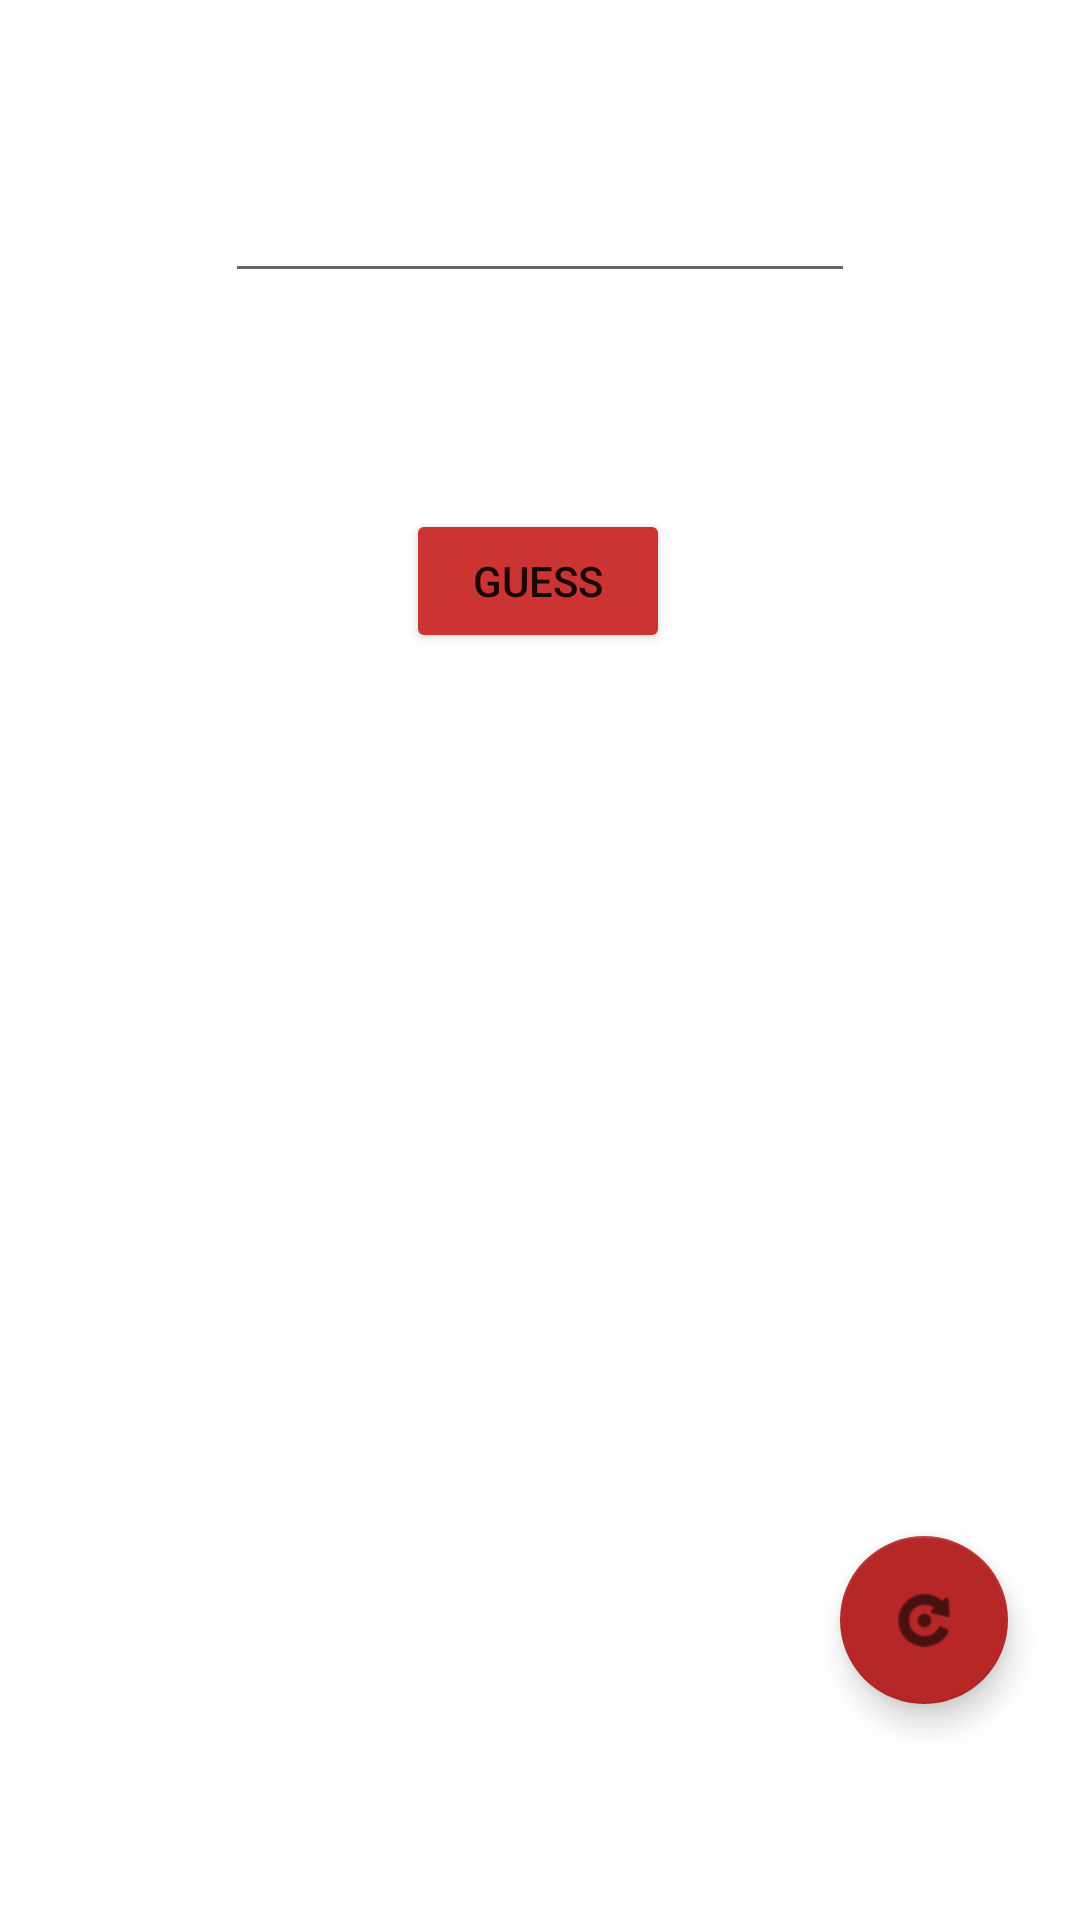

Icons on this 1080px x 1920px Android screen, each with its box as (x1, y1, x2, y2):
rotate: (840, 1536, 1008, 1704)
